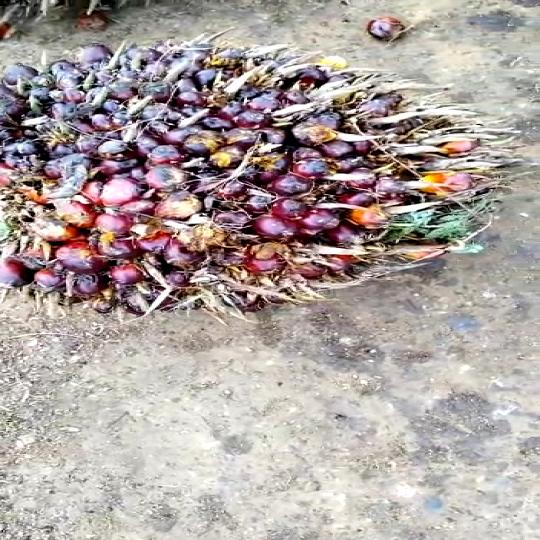masak: (0, 34, 528, 323)
